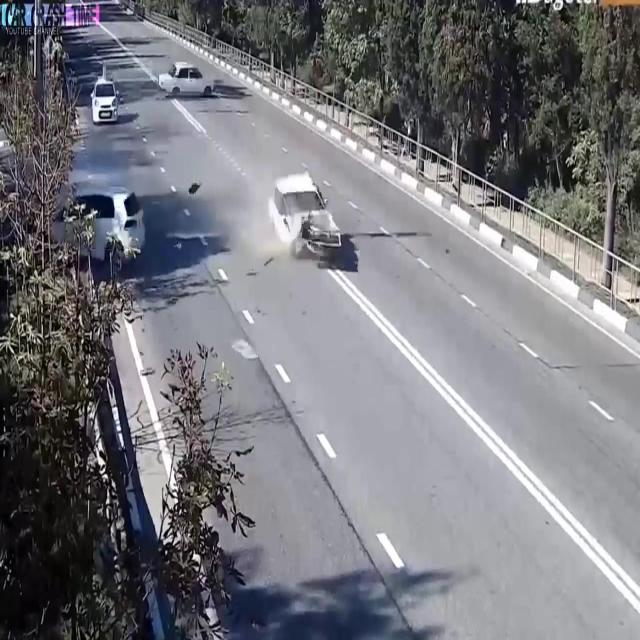accident: (15, 160, 207, 285), (242, 159, 347, 295)
